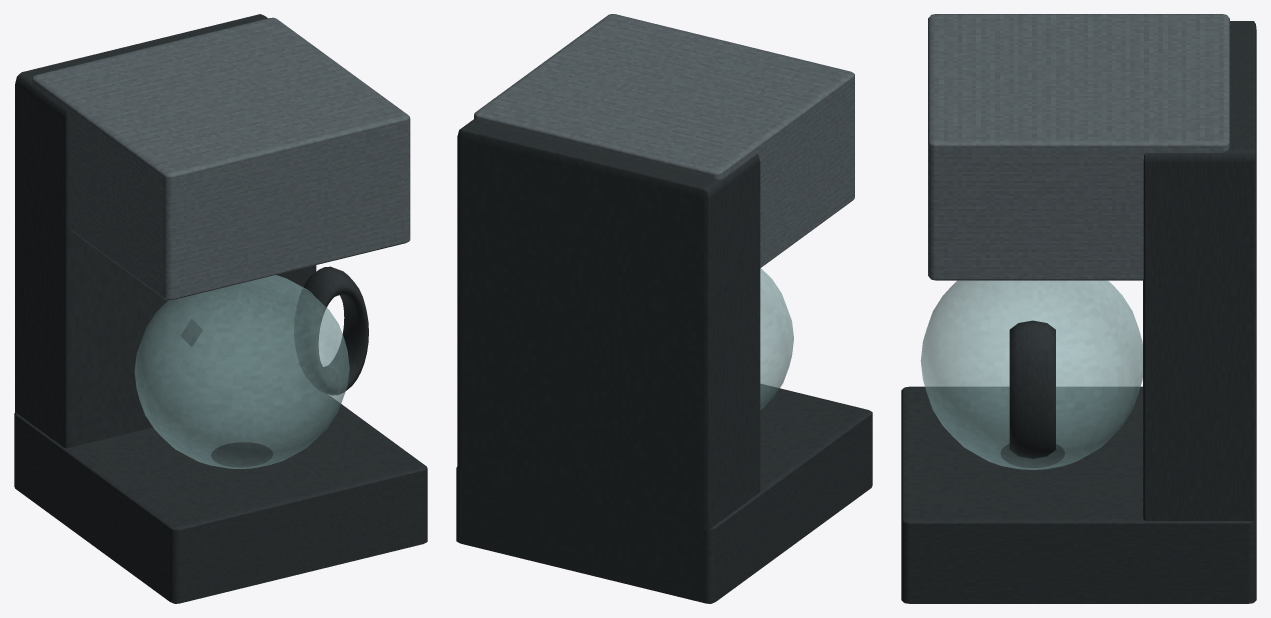
File: coffee.glb
3 views of the same model, side by side, from view 1: azimuth 30°, elevation 25°; view 2: azimuth 150°, elevation 25°; view 3: azimuth 270°, elevation 25° (orthographic). The views are drawn at different scales.
Parts seen in each view (by area): view 1: head, base, tower, carafe, handle; view 2: tower, head, base, carafe; view 3: head, base, tower, carafe, handle.
Part boxes in pixels (left/top/right/bottom): head: left=31, top=17, right=410, bottom=300; base: left=14, top=388, right=427, bottom=603; tower: left=15, top=14, right=316, bottom=447; carafe: left=134, top=275, right=349, bottom=468; handle: left=294, top=266, right=368, bottom=395; tower: left=457, top=119, right=760, bottom=585; head: left=474, top=14, right=854, bottom=267; base: left=456, top=384, right=872, bottom=603; carafe: left=760, top=268, right=793, bottom=410; head: left=928, top=14, right=1229, bottom=280; base: left=901, top=386, right=1256, bottom=603; tower: left=1143, top=21, right=1256, bottom=581; carafe: left=920, top=280, right=1142, bottom=469; handle: left=1009, top=320, right=1055, bottom=458.
Size of the model in its own units: 0.228 by 0.3564 by 0.25.
3 materials, 3 textured.
